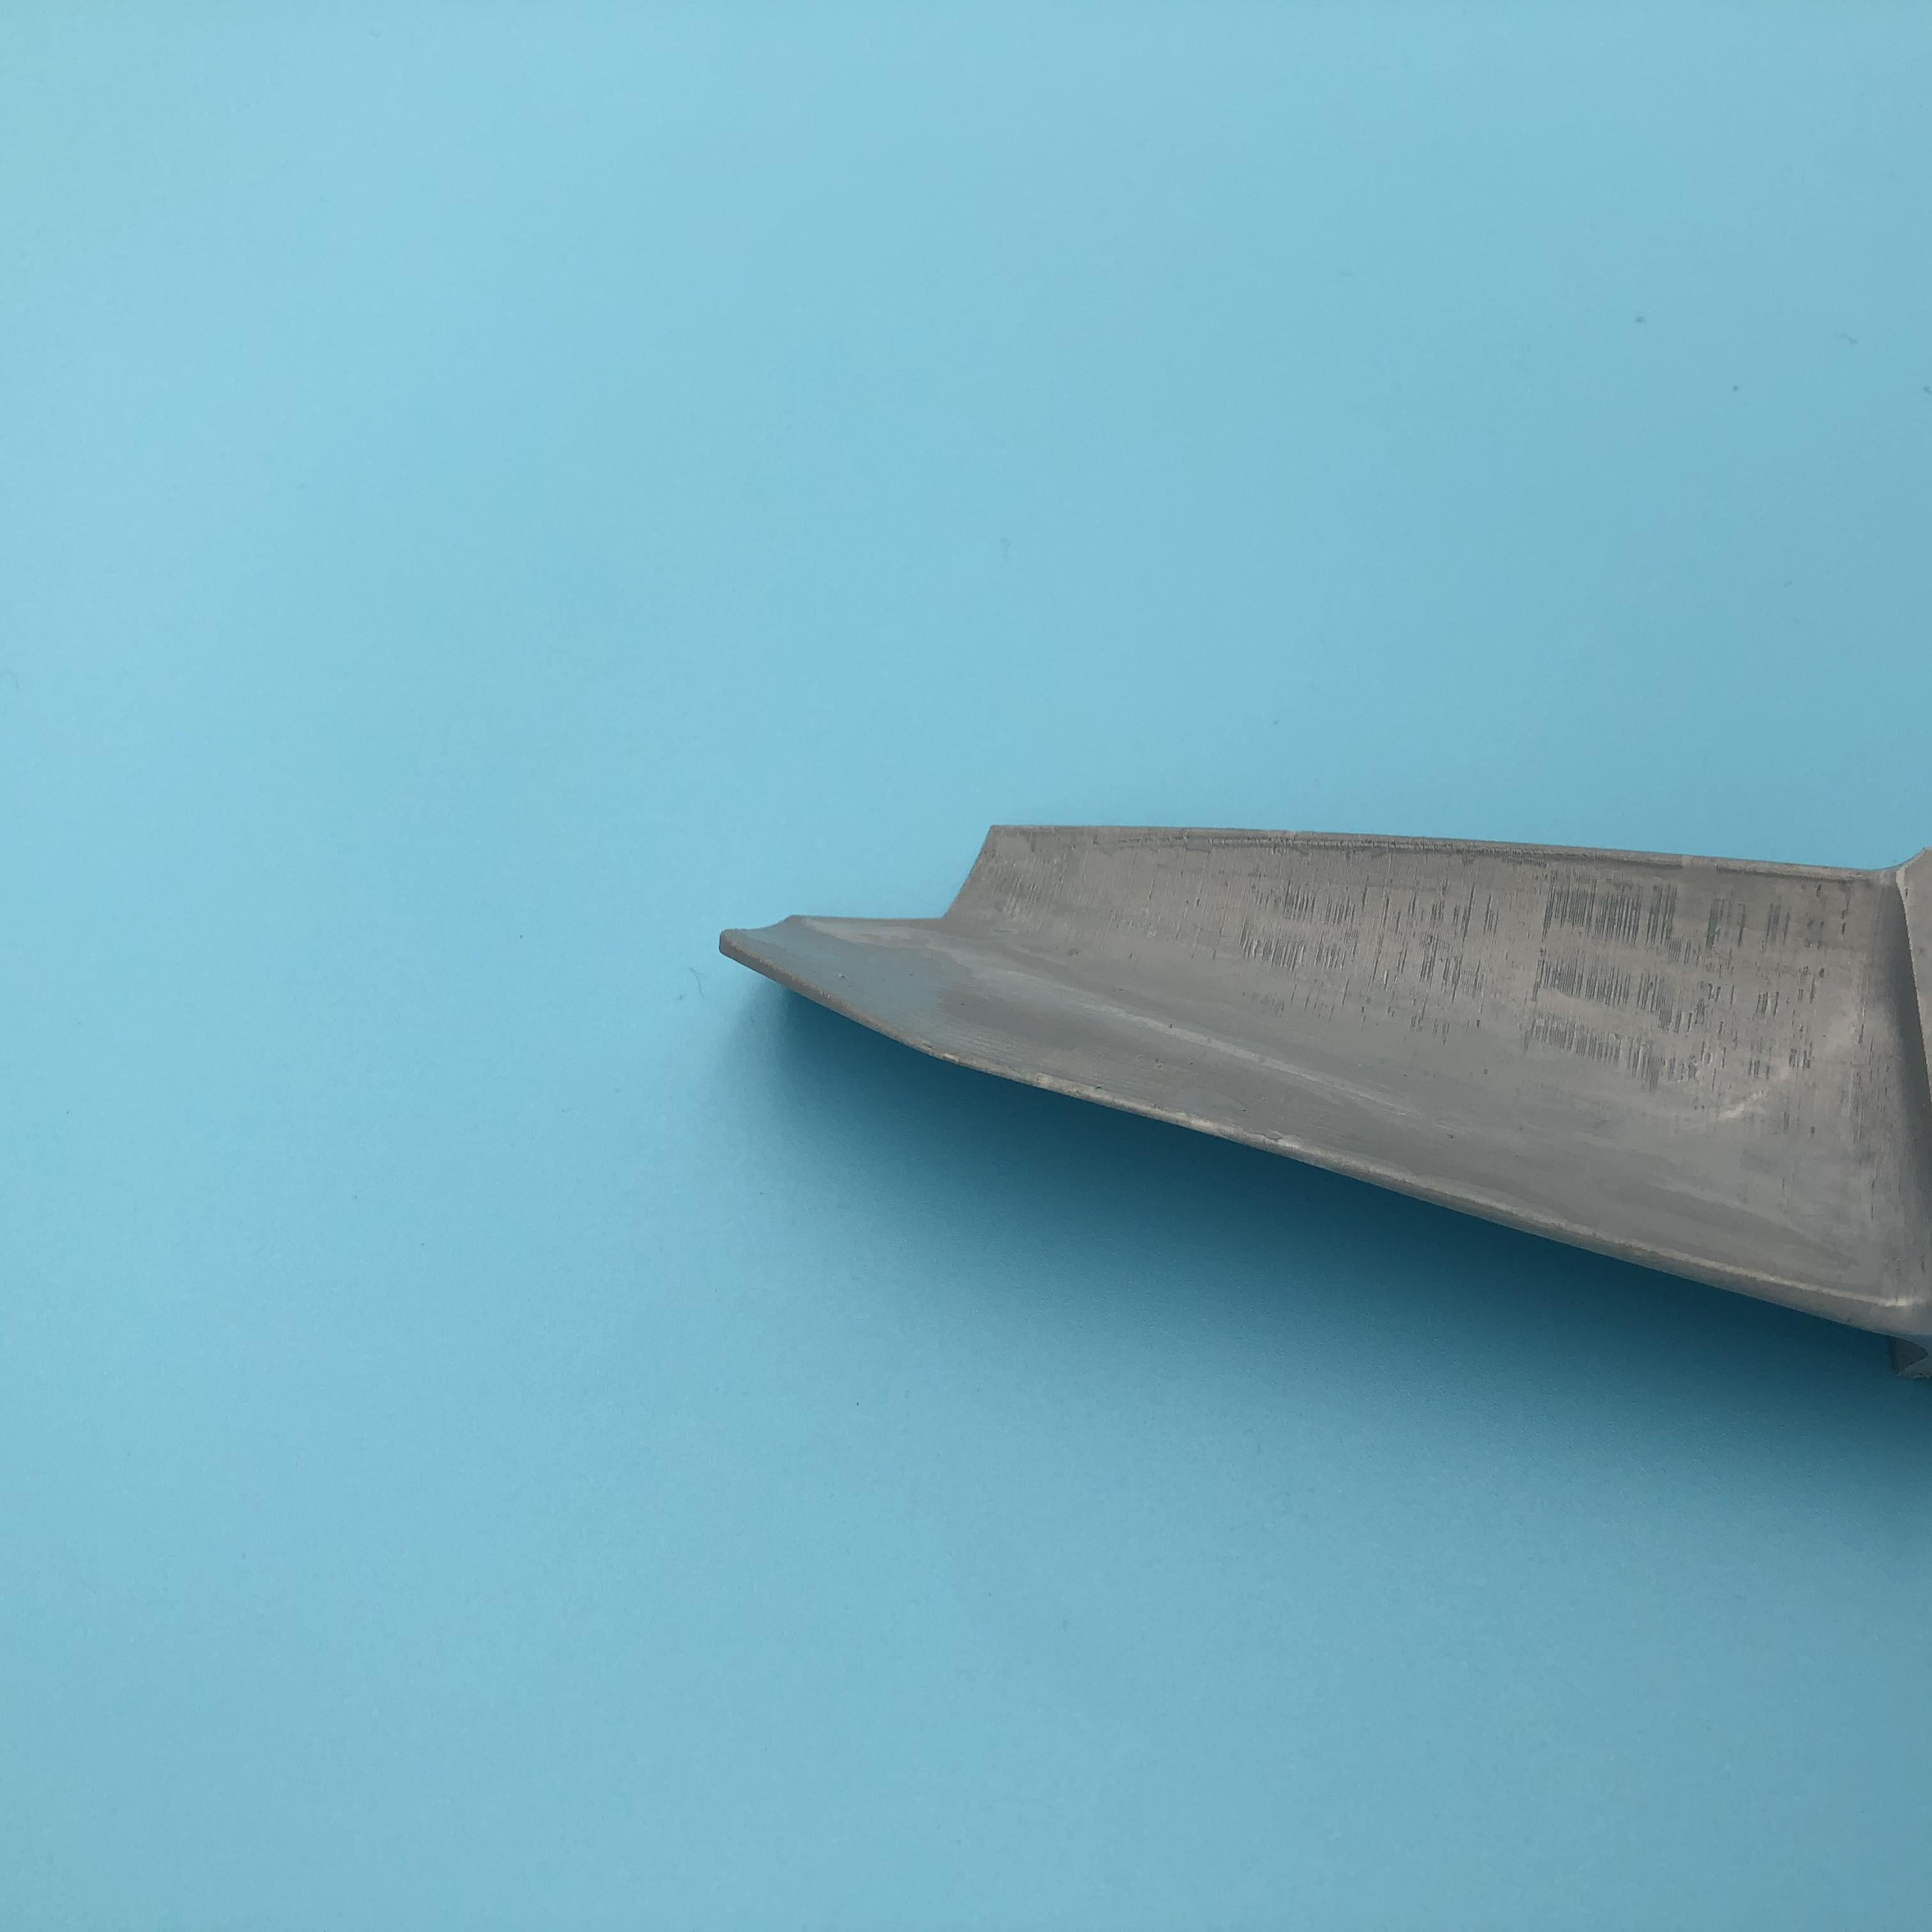fracture: (759, 828, 1069, 941)
